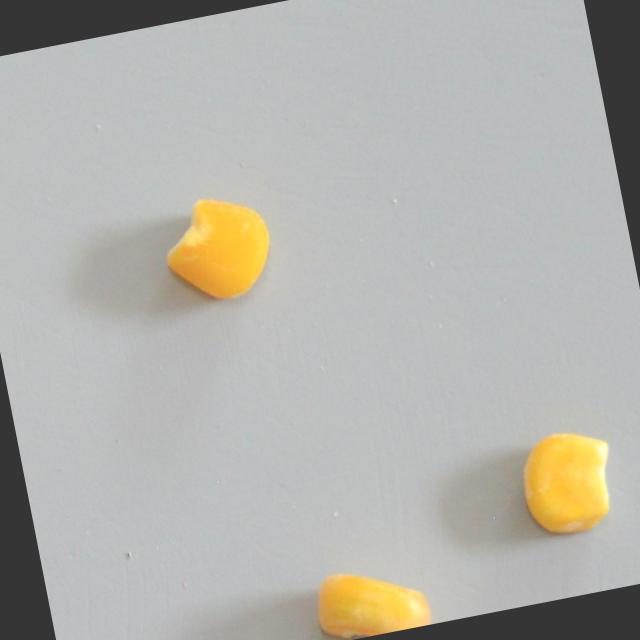no_canjicado: (154, 186, 282, 311), (307, 554, 434, 640)
pelicula: (511, 423, 623, 542)
